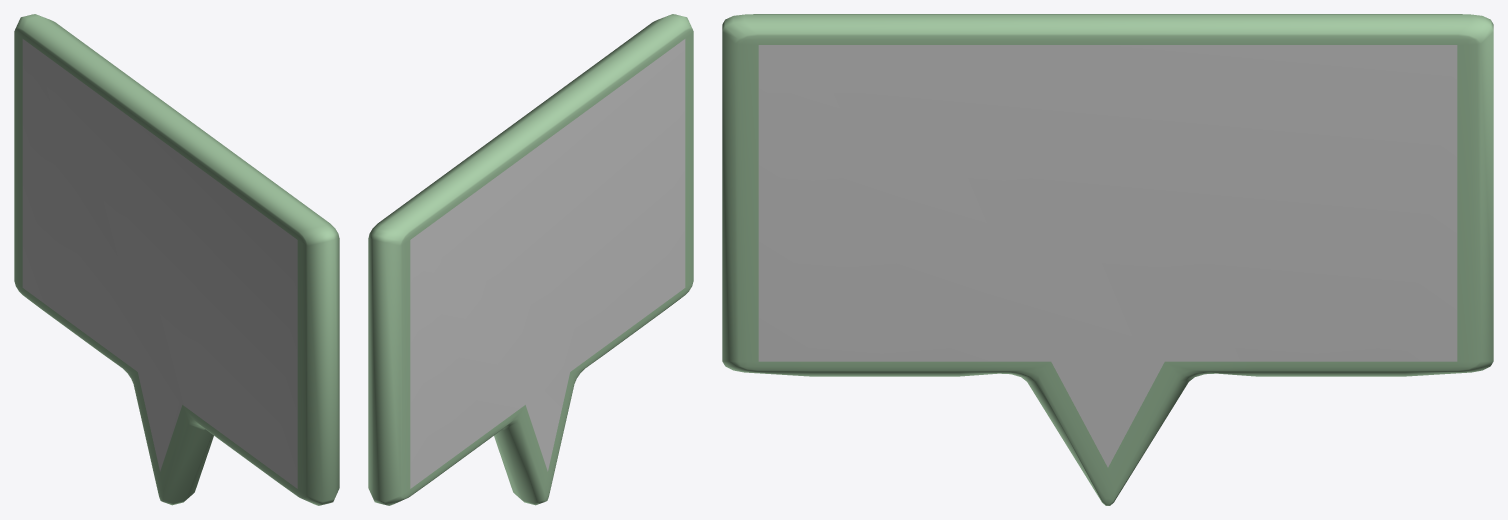
File: Tag.fbx
3 views of the same model, side by side, from view 1: azimuth 30°, elevation 25°; view 2: azimuth 150°, elevation 25°; view 3: azimuth 270°, elevation 25° (orthographic). The views are drawn at different scales.
Parts seen in each view (by area): view 1: ballon; view 2: ballon; view 3: ballon.
Boxes of the visible parts, <box> form: ballon: <box>14,14,339,505</box>; ballon: <box>368,14,693,505</box>; ballon: <box>722,14,1493,505</box>.
Bounding box in the file's own units: 2 × 21.57 × 31.13.
